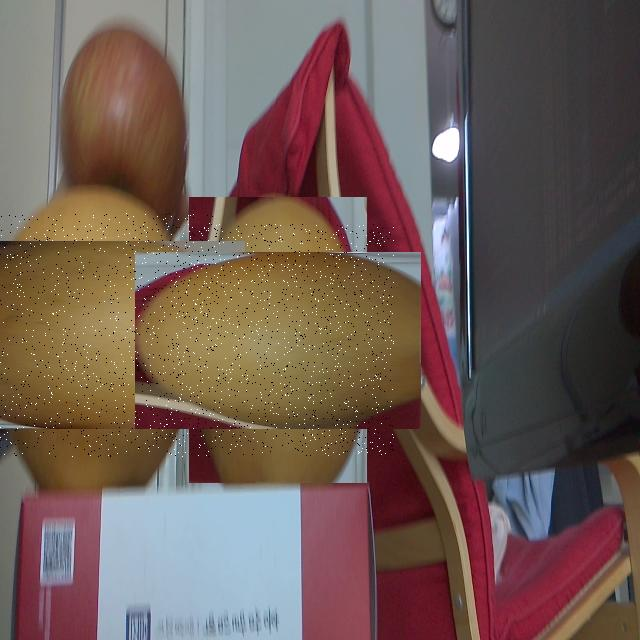pear: (162, 224, 394, 456), (0, 213, 216, 457)
